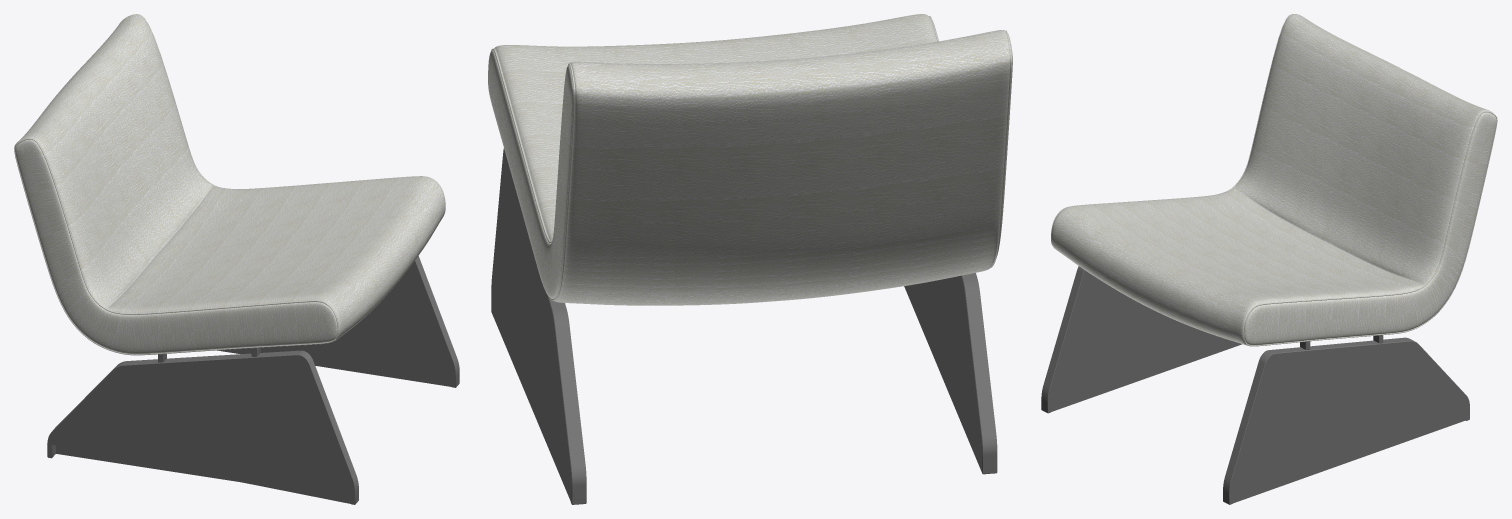
File: SillaDormitorio2.fbx
The picture shows the model from 3 angles, left to right: view 1: azimuth 30°, elevation 25°; view 2: azimuth 150°, elevation 25°; view 3: azimuth 270°, elevation 25°; orthographic projection. The views are drawn at different scales.
Visible parts, largest first — view 1: objA_05_1, objA_04_1, objA_02_1; view 2: objA_05_1, objA_02_1, objA_04_1; view 3: objA_05_1, objA_02_1, objA_04_1.
Part boxes in pixels (x1,y1,x2,y2): objA_05_1: (14,14,445,355); objA_04_1: (47,350,358,504); objA_02_1: (217,256,459,387); objA_05_1: (488,14,1012,305); objA_02_1: (491,148,586,504); objA_04_1: (904,273,997,474); objA_05_1: (1051,14,1497,346); objA_02_1: (1223,337,1469,504); objA_04_1: (1041,266,1241,413).
Bounding box in the file's own units: 40.15 × 30.11 × 40.69.
